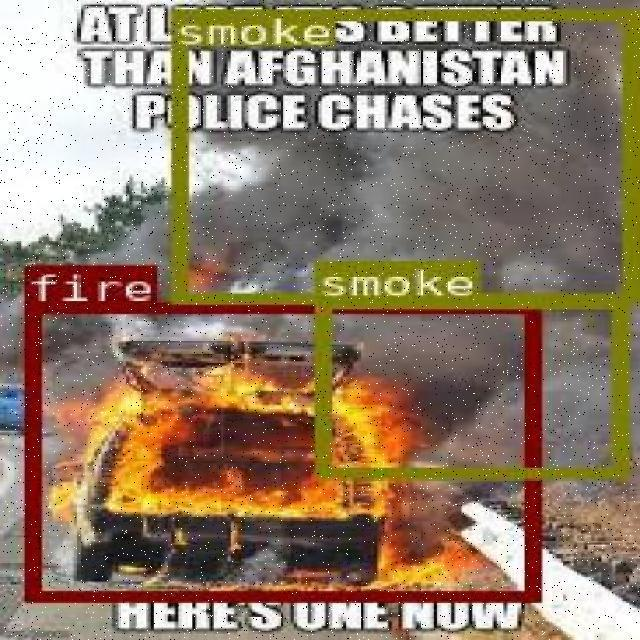Smoke: (167, 0, 623, 237), (314, 330, 626, 444)
